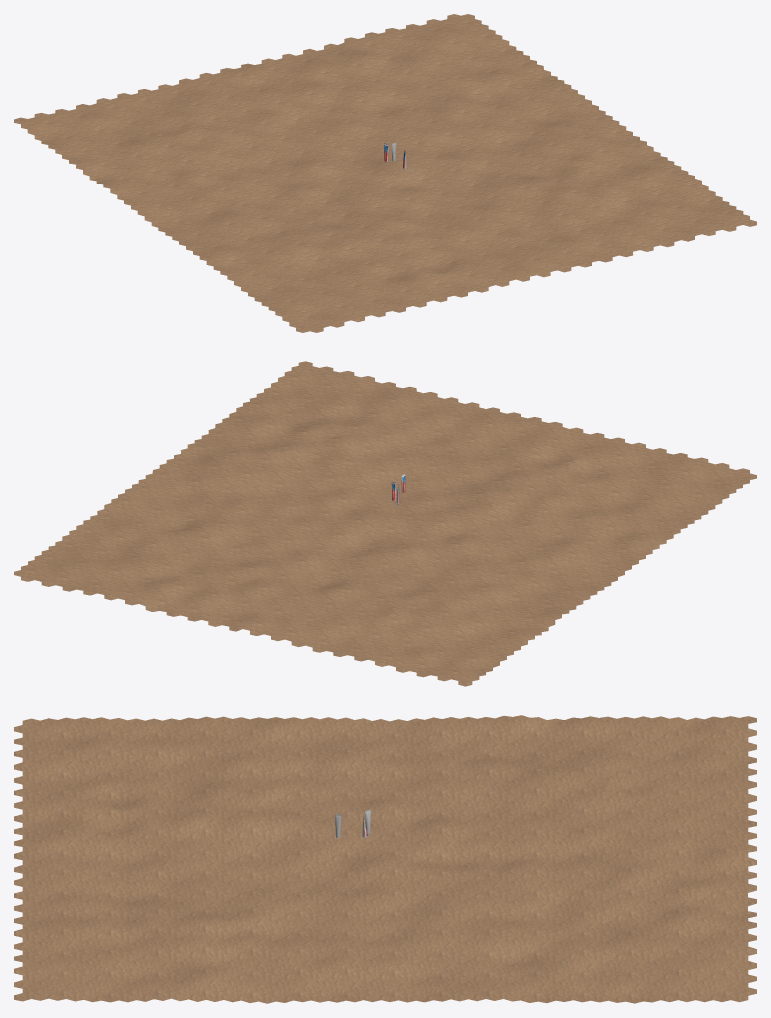
Rendered from Tok Test 04.FBX.
3 renders of one model, top to bottom at view 1: azimuth 30°, elevation 25°; view 2: azimuth 150°, elevation 25°; view 3: azimuth 270°, elevation 25°, orthographic. The views are drawn at different scales.
Parts seen in each view (by area): view 1: Group_001; view 2: Group_001; view 3: Group_001.
Boxes of the visible parts, x1,y1,x2,y2 form: Group_001: (14, 14, 756, 332); Group_001: (14, 361, 756, 686); Group_001: (14, 715, 756, 1003).
Size of the model in its own units: 383 by 31.3 by 424.
